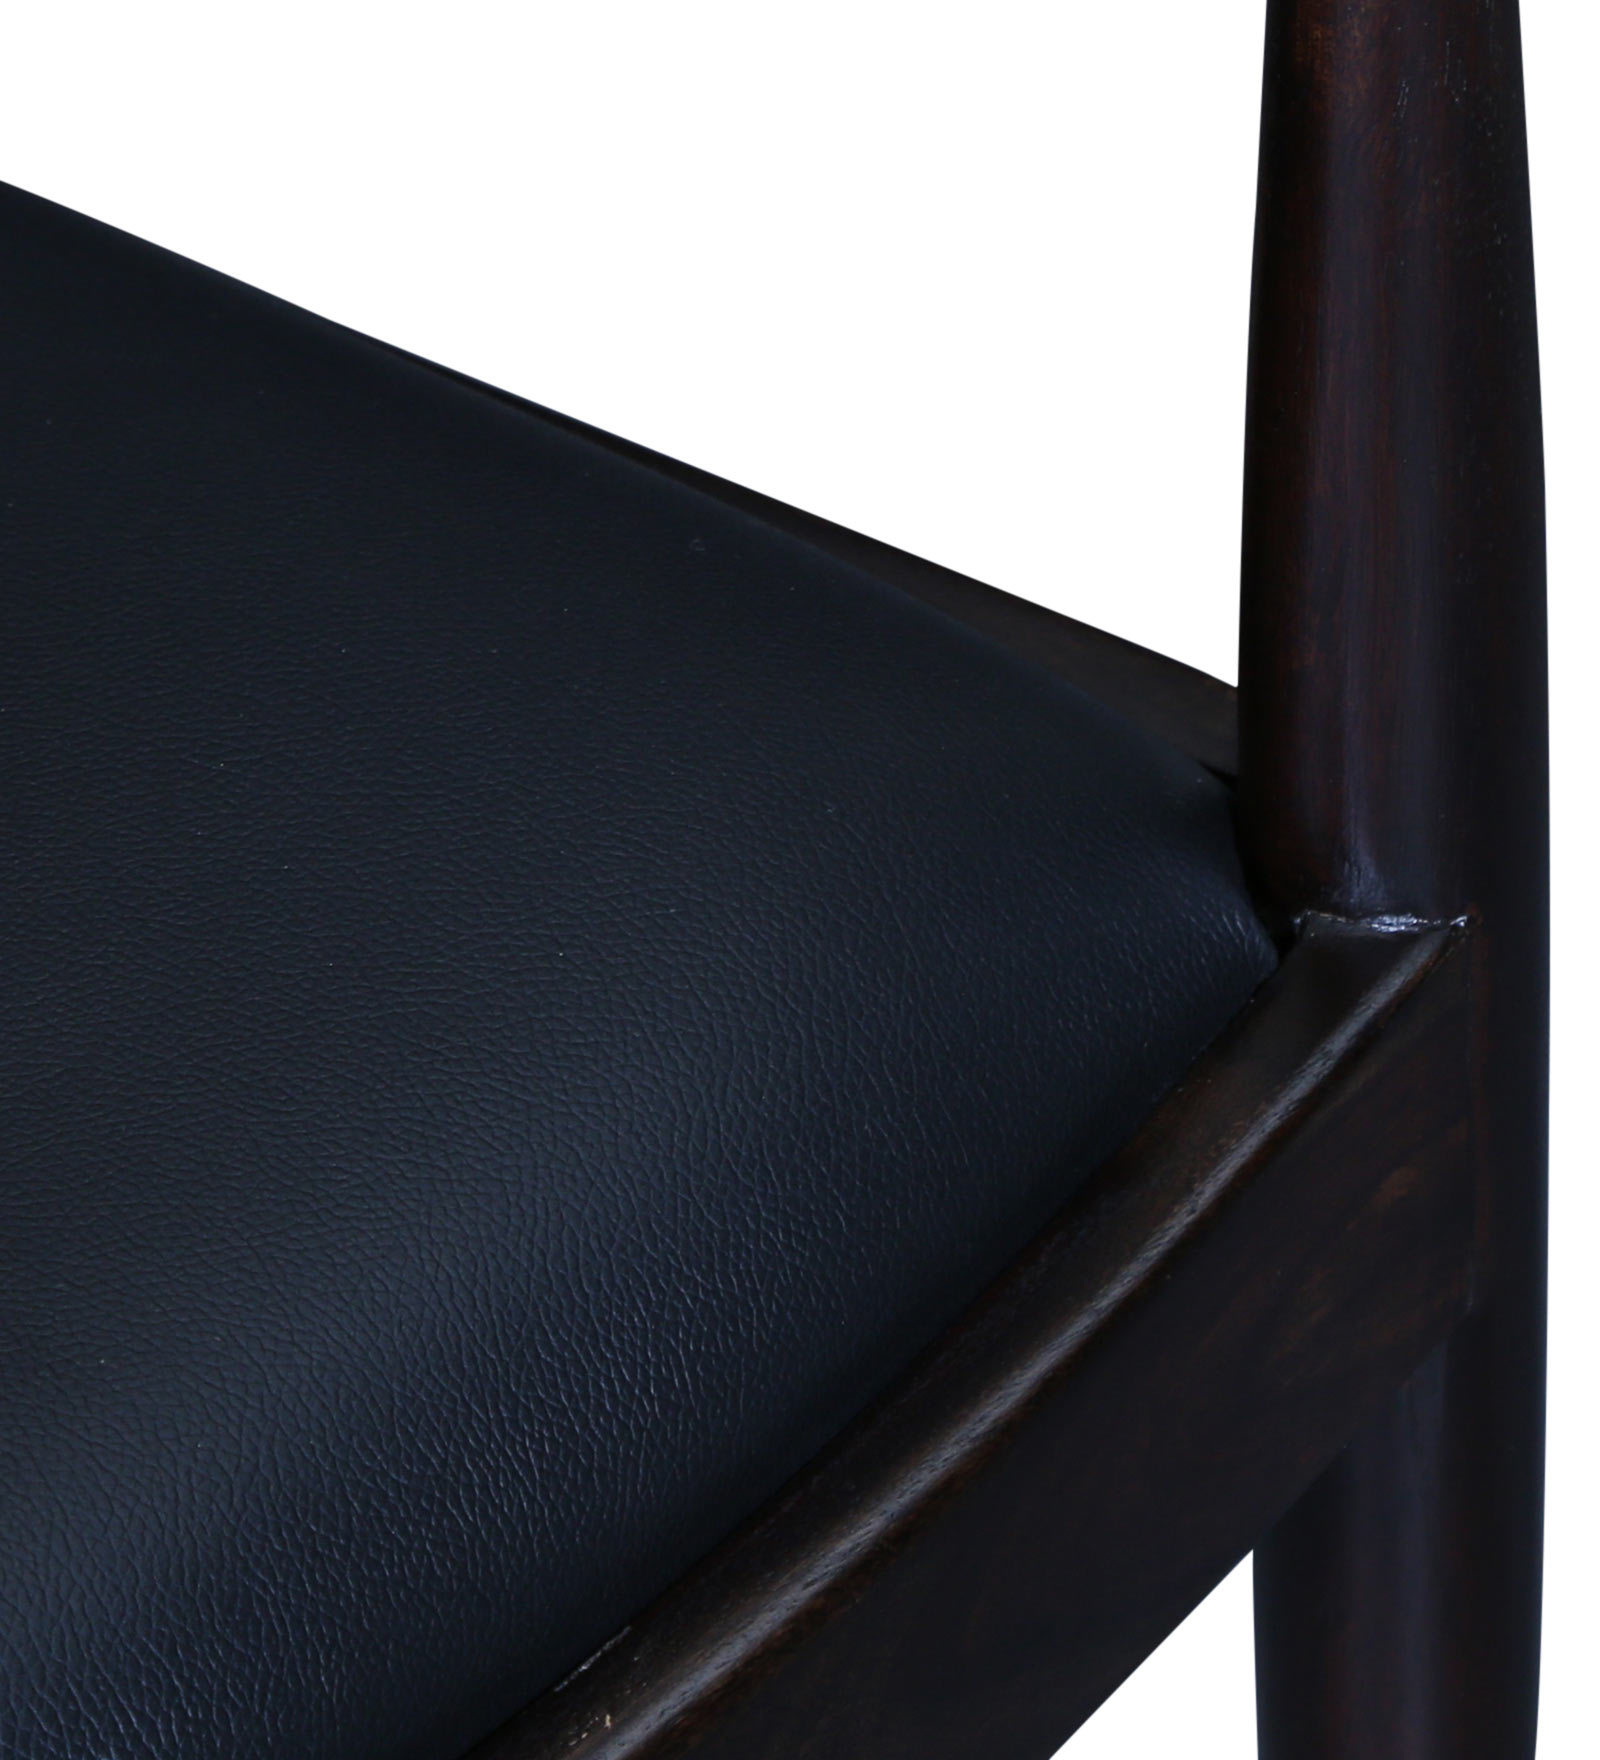Esvelt Arm Chair in Warm Chestnut Finish by Woodsworth: (5, 5, 1548, 1760)
